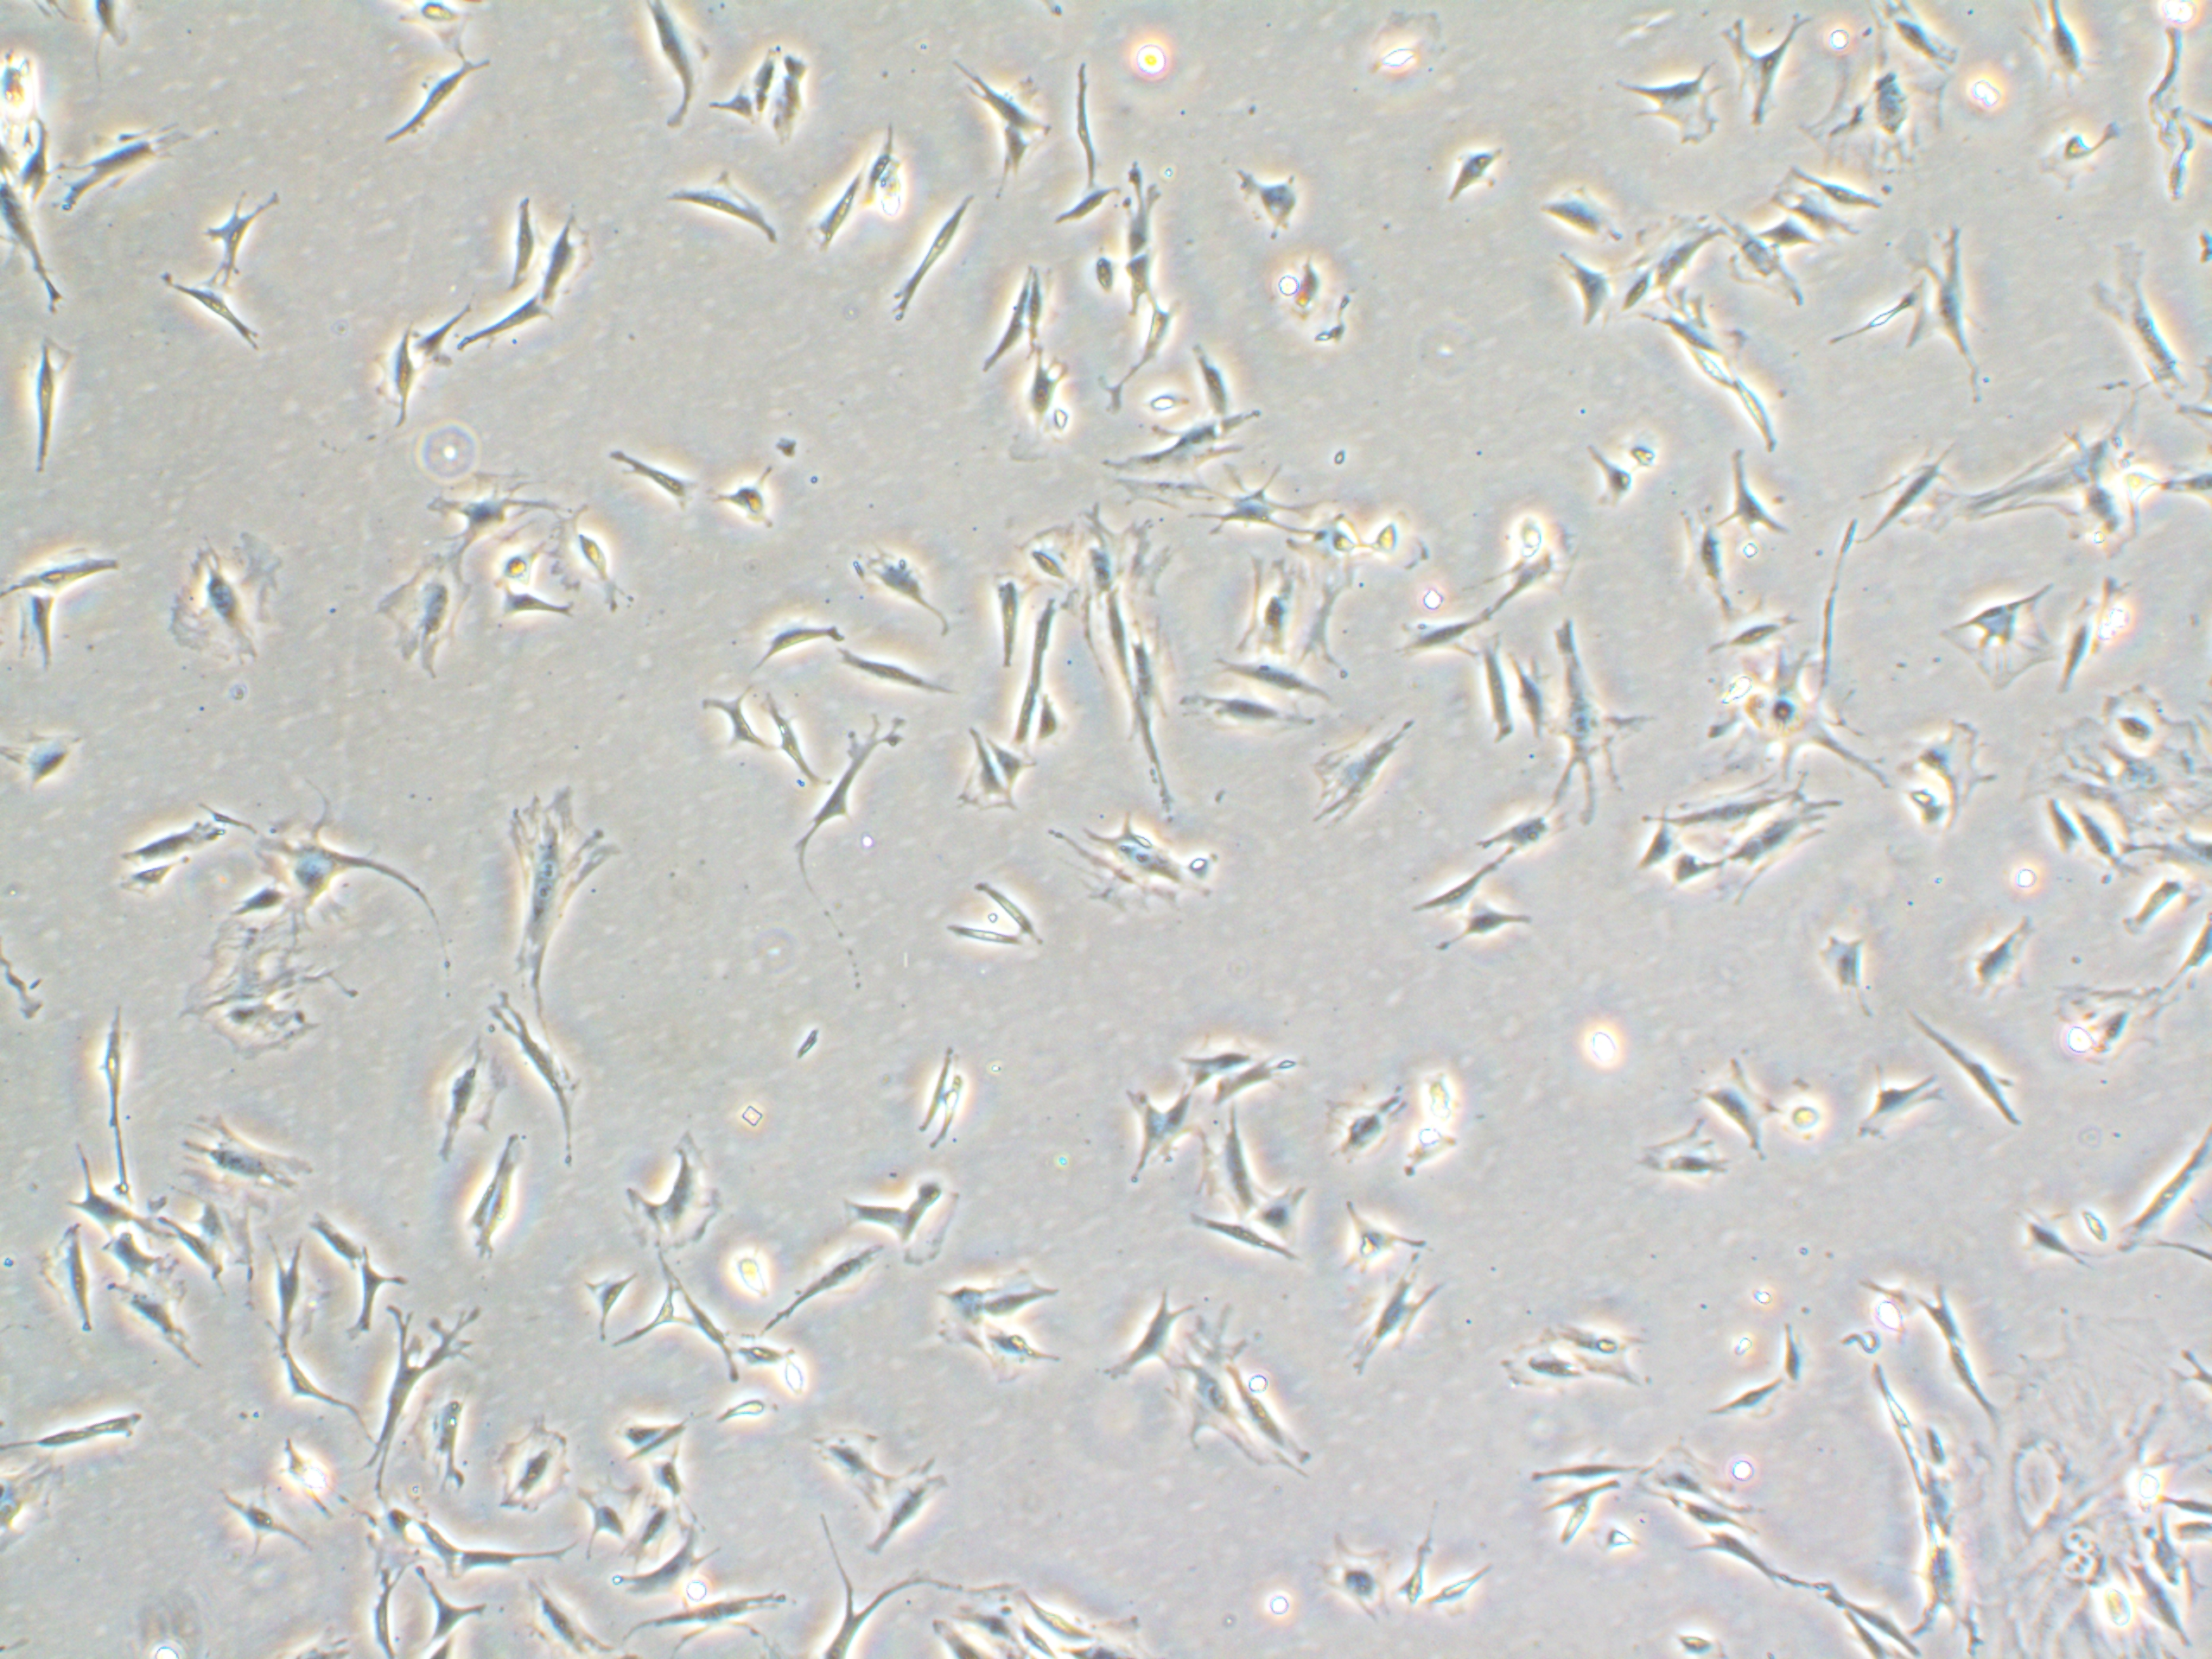Etc: (1801, 281, 1918, 352), (1731, 359, 1811, 462), (77, 986, 136, 1124), (1425, 1558, 1515, 1626), (972, 877, 1055, 948), (918, 917, 1033, 965), (937, 1063, 989, 1154), (1686, 349, 1742, 397)
polygonal: (235, 802, 442, 936), (38, 106, 228, 240), (355, 1300, 481, 1488), (484, 993, 604, 1180), (1299, 706, 1430, 868), (2083, 227, 2195, 403), (878, 171, 986, 350), (1907, 1000, 2038, 1136), (768, 730, 909, 856), (1846, 425, 1977, 558), (446, 1115, 549, 1279), (402, 1025, 509, 1176), (200, 1474, 315, 1607), (1681, 1042, 1801, 1166), (1092, 397, 1285, 474), (129, 265, 273, 366), (1172, 1351, 1282, 1483), (618, 0, 712, 152), (479, 1394, 580, 1534), (1231, 1359, 1332, 1497), (1914, 227, 1993, 396), (1325, 1255, 1440, 1370), (613, 1134, 726, 1251), (1853, 1051, 1970, 1164), (1641, 786, 1827, 856), (651, 176, 792, 267), (867, 1448, 974, 1568), (0, 200, 101, 326), (89, 1277, 207, 1384), (1620, 52, 1731, 162), (1703, 207, 1811, 321), (1527, 153, 1644, 258), (937, 37, 1055, 139), (373, 63, 493, 164), (17, 326, 91, 491), (772, 1234, 883, 1342), (1332, 1194, 1446, 1300), (1724, 784, 1843, 885), (892, 1154, 974, 1298), (28, 1209, 115, 1345), (840, 540, 958, 640), (1186, 474, 1336, 552), (578, 425, 702, 519), (1613, 1121, 1750, 1204), (0, 526, 131, 613), (1170, 1213, 1317, 1290), (1094, 1290, 1197, 1398), (1096, 1049, 1172, 1194), (1709, 17, 1810, 125), (1632, 1432, 1768, 1513), (1479, 1326, 1602, 1413), (195, 181, 298, 286), (1115, 694, 1195, 824), (1163, 681, 1317, 749), (1212, 145, 1317, 244), (618, 1520, 735, 1607), (1190, 1105, 1273, 1225), (1810, 897, 1893, 1018), (98, 800, 233, 873), (0, 721, 111, 809), (836, 647, 975, 716), (261, 1338, 362, 1434), (1320, 1065, 1411, 1171), (1808, 1570, 1921, 1654), (1667, 500, 1740, 627), (451, 289, 571, 366), (1696, 1532, 1815, 1608), (538, 193, 617, 308), (359, 303, 434, 423), (1402, 845, 1512, 927), (1207, 1042, 1325, 1117), (1456, 638, 1524, 767), (1320, 1528, 1399, 1640), (685, 678, 773, 775), (1453, 800, 1585, 864), (404, 1560, 495, 1654), (744, 608, 867, 676), (1388, 603, 1510, 671), (1113, 289, 1200, 383), (1763, 179, 1874, 251), (61, 1155, 152, 1243), (1958, 920, 2060, 997), (496, 176, 561, 296), (1435, 899, 1557, 962), (754, 681, 824, 791), (348, 1244, 415, 1359), (820, 1169, 920, 1246), (1648, 213, 1735, 300), (2067, 791, 2141, 894), (1540, 263, 1630, 345), (153, 1201, 232, 1295), (2003, 1204, 2097, 1283), (1108, 134, 1165, 260), (1784, 160, 1898, 223), (1683, 622, 1820, 674), (1719, 437, 1784, 549), (1064, 40, 1113, 185), (261, 1237, 324, 1347), (517, 1584, 608, 1659), (944, 727, 1014, 823), (2111, 864, 2188, 951), (0, 594, 75, 683), (98, 854, 200, 918), (970, 267, 1028, 380), (2015, 791, 2104, 864), (573, 1262, 637, 1361), (972, 1258, 1068, 1324), (1165, 1028, 1261, 1094), (815, 1424, 881, 1518), (1251, 1169, 1322, 1256), (1010, 521, 1099, 591), (845, 113, 909, 207), (1440, 118, 1501, 218), (564, 1478, 641, 1556), (1505, 645, 1562, 749), (1510, 1445, 1658, 1485), (1637, 307, 1731, 369), (1700, 1371, 1789, 1438), (449, 1534, 554, 1589), (411, 288, 479, 373), (1651, 1492, 1761, 1544), (806, 148, 857, 260), (298, 1204, 378, 1274), (1015, 587, 1073, 681), (101, 1223, 190, 1283), (1035, 669, 1094, 758), (1183, 340, 1245, 422), (981, 120, 1040, 206), (1912, 1277, 1972, 1363), (700, 71, 765, 150), (409, 1502, 479, 1574), (1536, 1476, 1642, 1520), (1670, 847, 1742, 911), (979, 565, 1021, 671), (1771, 1314, 1825, 1396), (606, 1401, 681, 1457), (984, 735, 1047, 802), (1627, 796, 1676, 877), (1024, 251, 1059, 361), (1050, 178, 1115, 235), (1113, 249, 1160, 326), (1743, 216, 1822, 261), (651, 1446, 698, 1518), (624, 1493, 671, 1565), (751, 47, 780, 110)
small-round: (707, 460, 791, 538), (777, 1342, 834, 1419), (721, 1239, 780, 1312), (1588, 1516, 1651, 1582), (1778, 1084, 1834, 1157), (1364, 505, 1425, 566), (491, 537, 550, 598), (570, 519, 622, 584), (1618, 422, 1674, 477), (1127, 383, 1190, 430), (1500, 507, 1550, 558)
spread: (1932, 1303, 2209, 1659), (475, 777, 644, 985), (1028, 796, 1249, 948), (1514, 615, 1660, 835), (158, 908, 345, 1070), (152, 514, 315, 688), (1806, 23, 1965, 190), (169, 1105, 314, 1251), (1933, 563, 2067, 714), (1223, 538, 1334, 680), (376, 551, 474, 699), (1892, 695, 1991, 838)
